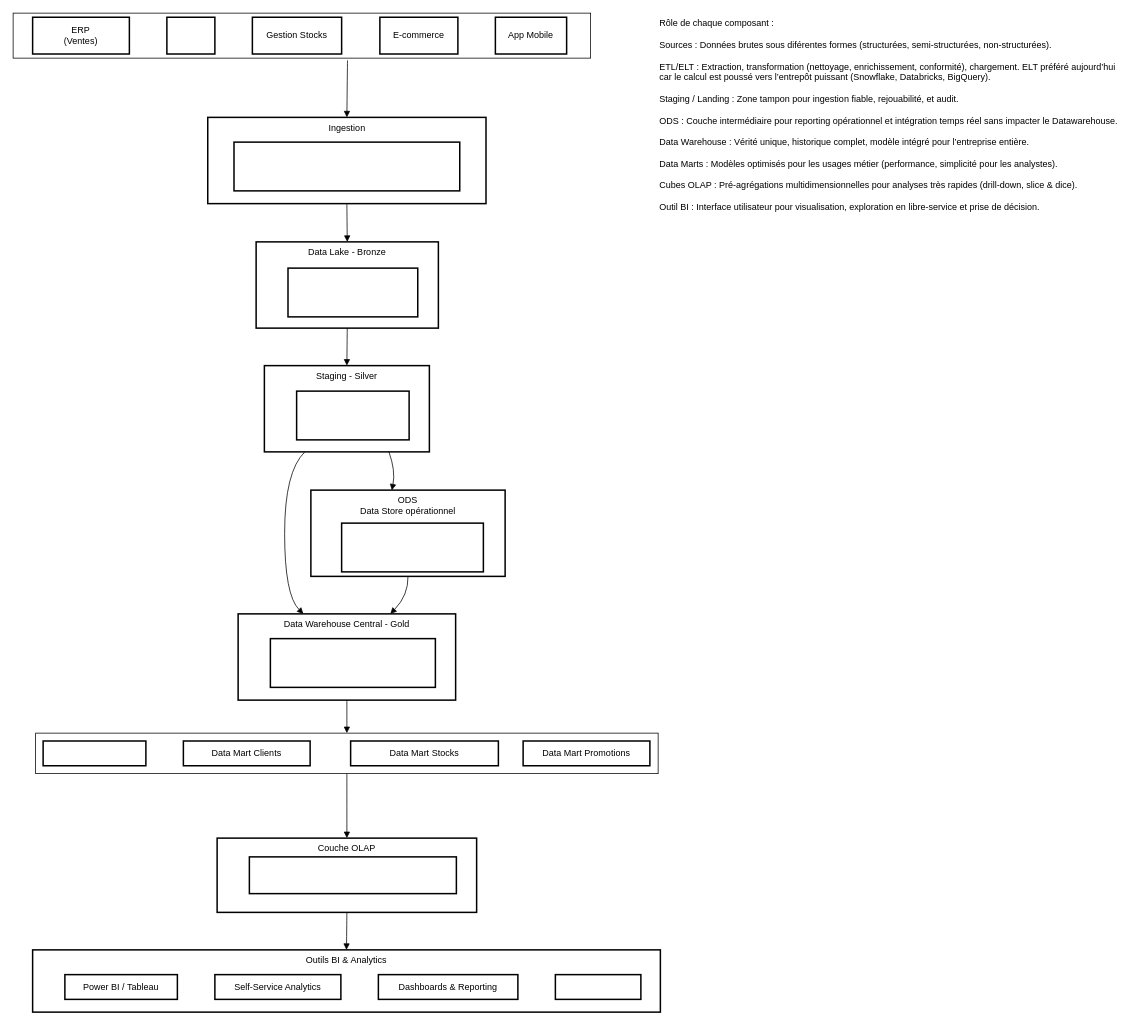
Some shapes in this 1142 by 1026 pixel diagram are drawn without their labels. The shapes that lost their labels are listed below. From the top down, each one's centre as x and y in pixels, then its label:
At (x=190, y=35): "CRM (Clients)".
At (x=346, y=166): "ETL / ELT Tools Kafka + Spark Streaming".
At (x=352, y=292): "Stockage Brut des données".
At (x=353, y=415): "Données nettoyées Dédoublonnées Conformées".
At (x=412, y=547): "Base relationnelle Quasi temps réel PostgreSQL / SQL Server".
At (x=352, y=663): "Historique complet Surrogate Keys + SCD".
At (x=94, y=753): "Data Mart Ventes".
At (x=352, y=875): "Cubes Multidimensionnels".
At (x=597, y=987): "Alerting & ML".
